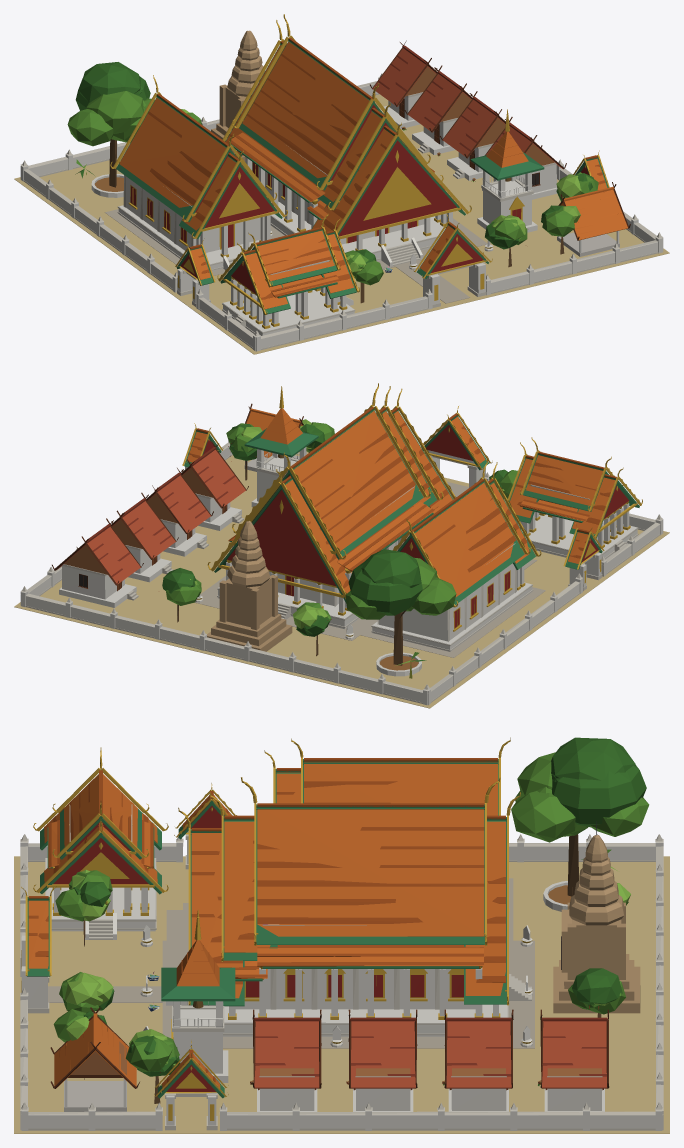
File: temple_3.glb
3 renders of one model, top to bottom at view 1: azimuth 30°, elevation 25°; view 2: azimuth 150°, elevation 25°; view 3: azimuth 270°, elevation 25°, orthographic. The views are drawn at different scales.
Parts seen in each view (by area): view 1: body; view 2: body; view 3: body.
Part boxes in pixels (<box>): body: <box>14,14,669,354</box>; body: <box>14,383,669,708</box>; body: <box>14,737,669,1133</box>.
Bounding box in the file's own units: 47.9 × 17.87 × 47.9.
